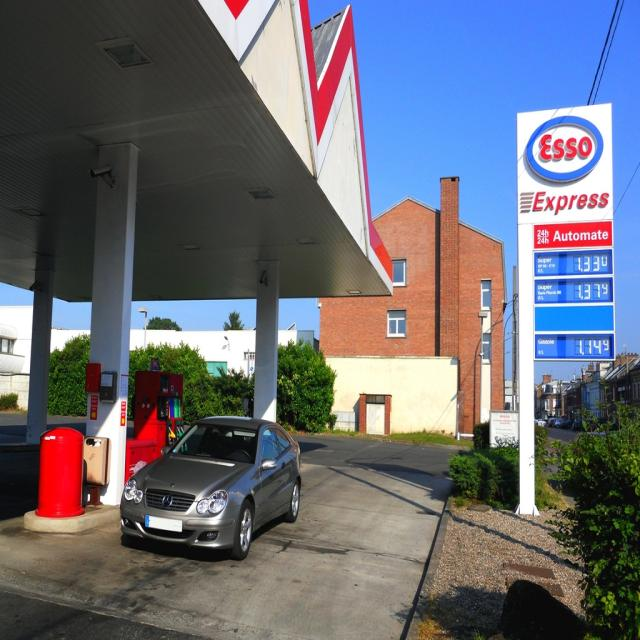esso: (527, 115, 606, 186)
